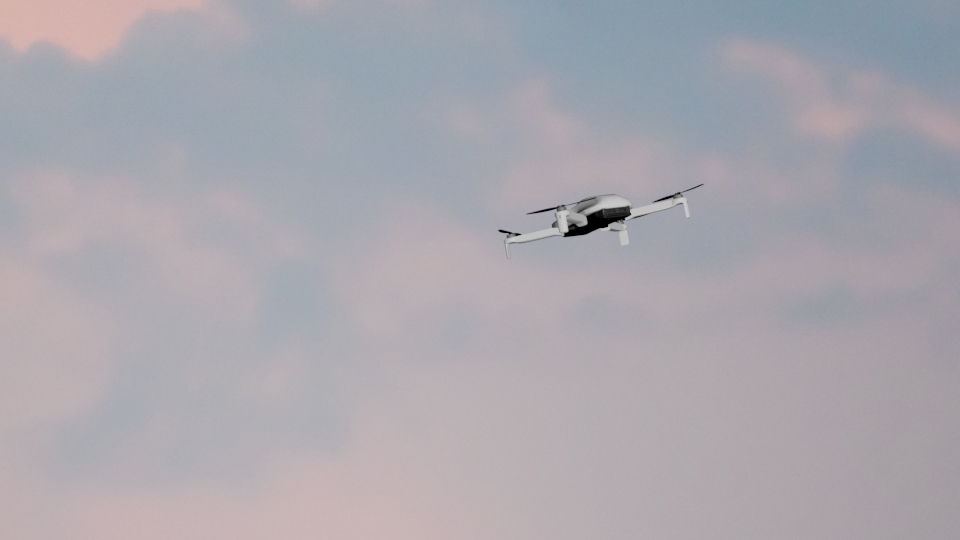drone: (498, 182, 704, 260)
